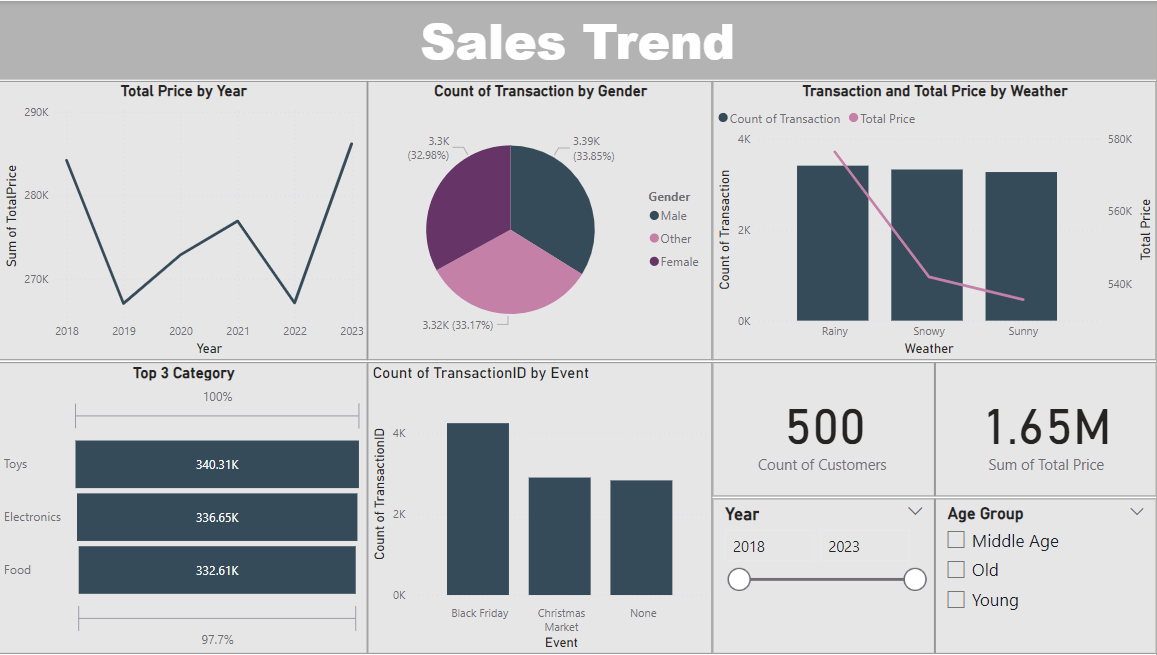

What the dashboard file says about the page in this screenshot:
{"tool":"powerbi","page":{"name":"Page 1","canvas":[1280,720],"ordinal":0},"visuals":[{"type":"funnel","title":"Top 3 Category","fields":{"Category":["Onyx Data -DataDNA Dataset Chal.Category"],"Y":["Sum(Onyx Data -DataDNA Dataset Chal.TotalPrice)"]},"box":[9.6,393.8,404.8,326.6],"z":0},{"type":"lineChart","title":" Total Price by Year","fields":{"Category":["Onyx Data -DataDNA Dataset Chal.Date.Variation.Date Hierarchy.Year"],"Y":["Sum(Onyx Data -DataDNA Dataset Chal.TotalPrice)"]},"box":[9.6,87.8,404.8,306],"z":1000},{"type":"pieChart","title":"Count of Transaction by Gender","fields":{"Category":["Onyx Data -DataDNA Dataset Chal.Gender"],"Y":["CountNonNull(Onyx Data -DataDNA Dataset Chal.TransactionID)"]},"box":[414.4,87.8,378.7,337.6],"z":2000},{"type":"textbox","box":[9.6,0,1270.7,86.4],"z":3000},{"type":"card","fields":{"Values":["Sum(Onyx Data -DataDNA Dataset Chal.TotalPrice)"]},"box":[1048.4,393.8,231.9,137.2],"z":4000},{"type":"clusteredColumnChart","fields":{"Category":["Onyx Data -DataDNA Dataset Chal.Event"],"Y":["CountNonNull(Onyx Data -DataDNA Dataset Chal.TransactionID)"]},"box":[414.4,425.4,378.7,295],"z":5000},{"type":"lineClusteredColumnComboChart","title":"Transaction and Total Price by Weather","fields":{"Category":["Onyx Data -DataDNA Dataset Chal.Weather"],"Y":["CountNonNull(Onyx Data -DataDNA Dataset Chal.TransactionID)"],"Y2":["Sum(Onyx Data -DataDNA Dataset Chal.TotalPrice)"]},"box":[793.1,86.4,487.1,307.4],"z":6000},{"type":"slicer","fields":{"Values":["Onyx Data -DataDNA Dataset Chal.Age Group"]},"box":[1048.4,557.1,231.9,163.3],"z":7000},{"type":"slicer","fields":{"Values":["Onyx Data -DataDNA Dataset Chal.Year"]},"box":[793.1,557.1,255.2,156.4],"z":8000},{"type":"card","fields":{"Values":["Count(Onyx Data -DataDNA Dataset Chal.CustomerID)"]},"box":[793.1,393.8,244.3,149.6],"z":9000}]}

Visuals, with their boxes in screenshot pixels (x1, y1, x2, y2), scaled from the page's 1280x720 canvas onto the 1157x655 screenshot:
"Top 3 Category" funnel: [9,358,375,654]
" Total Price by Year" lineChart: [9,80,375,358]
"Count of Transaction by Gender" pieChart: [375,80,717,387]
textbox: [9,0,1156,79]
card - Sum(Onyx Data -DataDNA Dataset Chal.TotalPrice): [948,358,1156,483]
clusteredColumnChart - Onyx Data -DataDNA Dataset Chal.Event x CountNonNull(Onyx Data -DataDNA Dataset Chal.TransactionID): [375,387,717,654]
"Transaction and Total Price by Weather" lineClusteredColumnComboChart: [717,79,1156,358]
slicer - Onyx Data -DataDNA Dataset Chal.Age Group: [948,507,1156,654]
slicer - Onyx Data -DataDNA Dataset Chal.Year: [717,507,948,649]
card - Count(Onyx Data -DataDNA Dataset Chal.CustomerID): [717,358,938,494]
